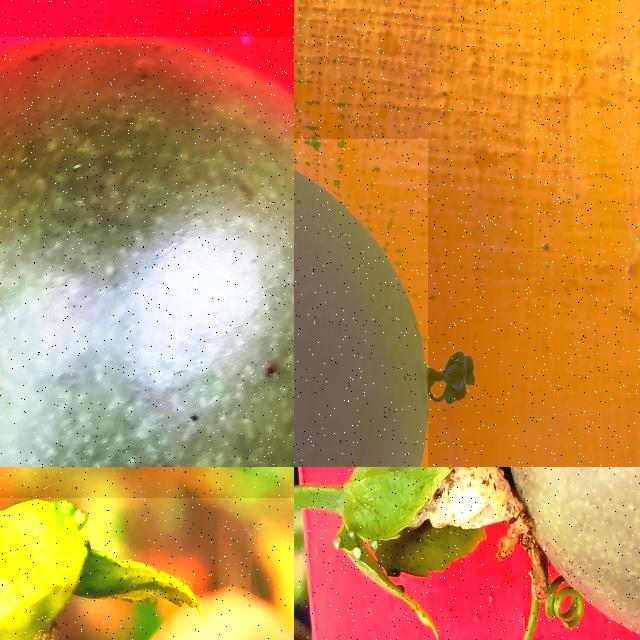Estado-1: (0, 37, 294, 467), (294, 467, 640, 639)
Estado-3: (0, 498, 202, 640)
Estado-5: (294, 167, 427, 467)
